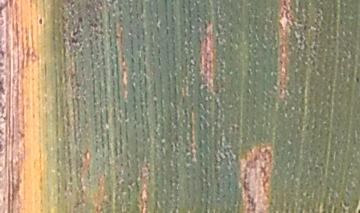tarspot: (69, 30, 85, 45), (36, 15, 46, 26), (76, 15, 83, 25), (354, 75, 360, 86), (355, 200, 360, 212)
